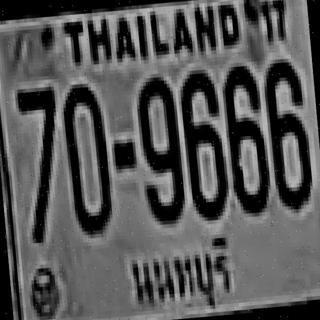N00: (58, 79, 110, 232)
N06: (176, 68, 228, 218), (220, 63, 270, 213), (262, 56, 311, 209)
N07: (14, 84, 63, 227), (14, 85, 60, 194), (14, 85, 59, 183)
N09: (134, 72, 184, 222)
P37: (123, 231, 240, 316)
